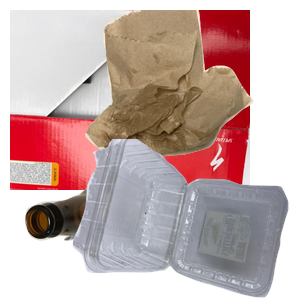cardboard: (10, 10, 250, 190)
glass: (23, 179, 183, 300)
plastic: (70, 139, 300, 300)
trash: (83, 10, 300, 163)
